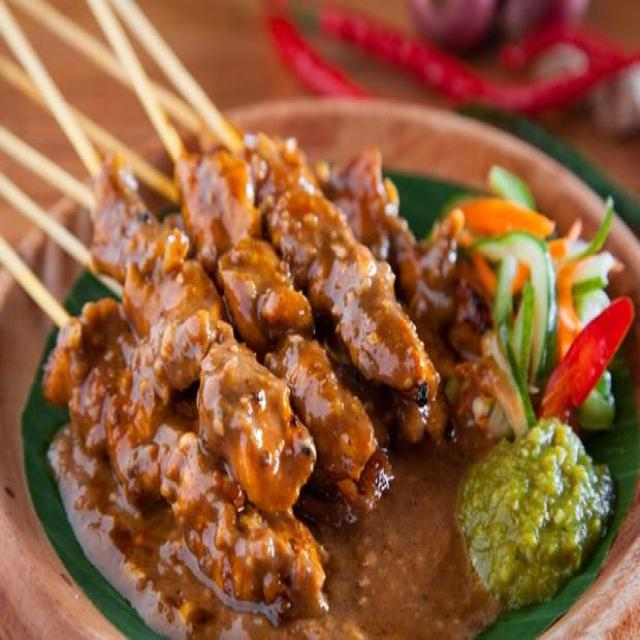Sate: (0, 0, 465, 610)
